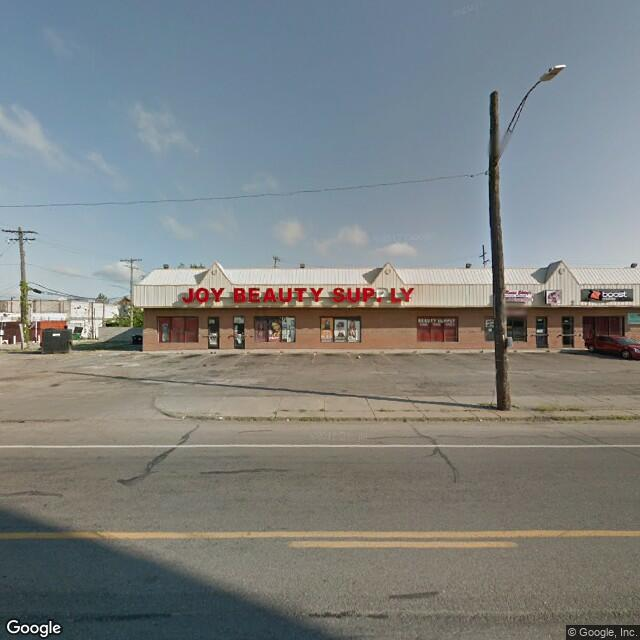litter: (284, 416, 295, 421), (356, 353, 363, 360), (217, 415, 222, 419), (182, 415, 186, 419), (479, 417, 483, 421)
